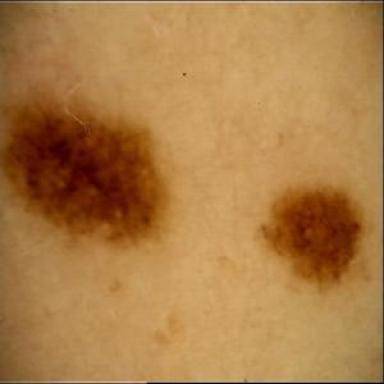Melanoma: (6, 101, 162, 240), (261, 186, 361, 285)
